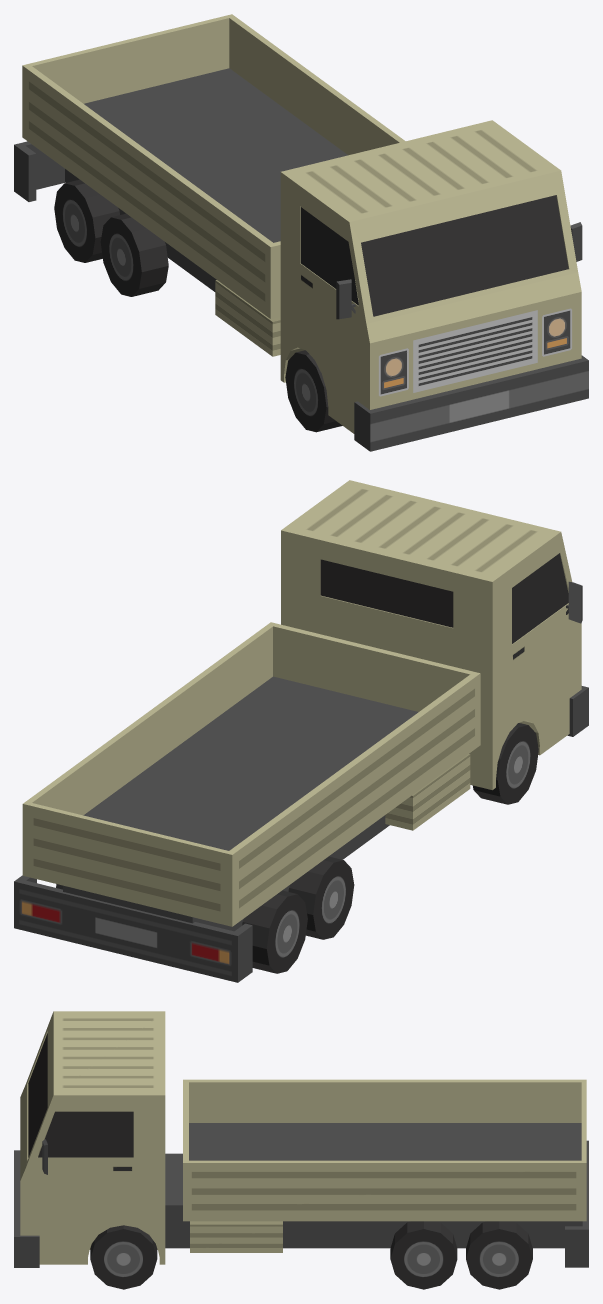
The model's file is vehicle-truck-color02.glb.
The picture shows the model from 3 angles, top to bottom: view 1: azimuth 30°, elevation 25°; view 2: azimuth 150°, elevation 25°; view 3: azimuth 270°, elevation 25°; orthographic projection. The views are drawn at different scales.
Parts seen in each view (by area): view 1: model; view 2: model; view 3: model.
Part boxes in pixels (left/top/right/bottom): model: left=14, top=14, right=588, bottom=451; model: left=14, top=480, right=588, bottom=982; model: left=14, top=1011, right=588, bottom=1289.
Size of the model in its own units: 3.63 by 3.39 by 9.1.
1 material, 1 textured.
